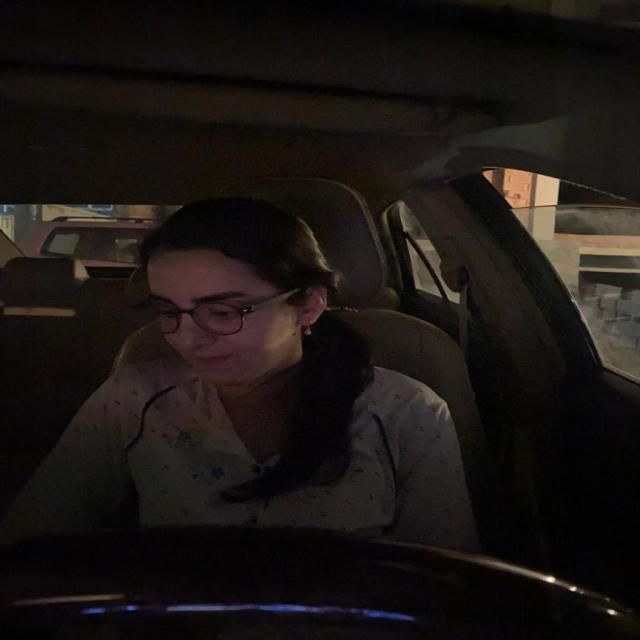person: (142, 227, 345, 378)
